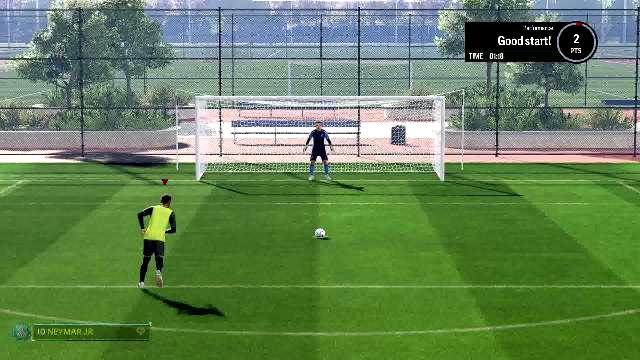bottom-left: (207, 144, 280, 180)
bottom-right: (358, 143, 438, 181)
center-down: (276, 142, 360, 180)
center-up: (278, 101, 359, 143)
football: (314, 229, 326, 239)
goalkeeper: (304, 119, 338, 182)
player: (134, 192, 178, 294)
top-left: (206, 102, 280, 142)
top-right: (362, 102, 441, 142)
